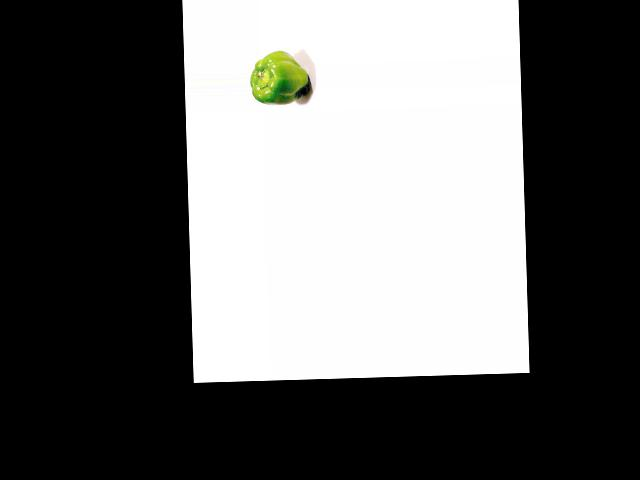bell_pepper: (249, 47, 312, 107)
